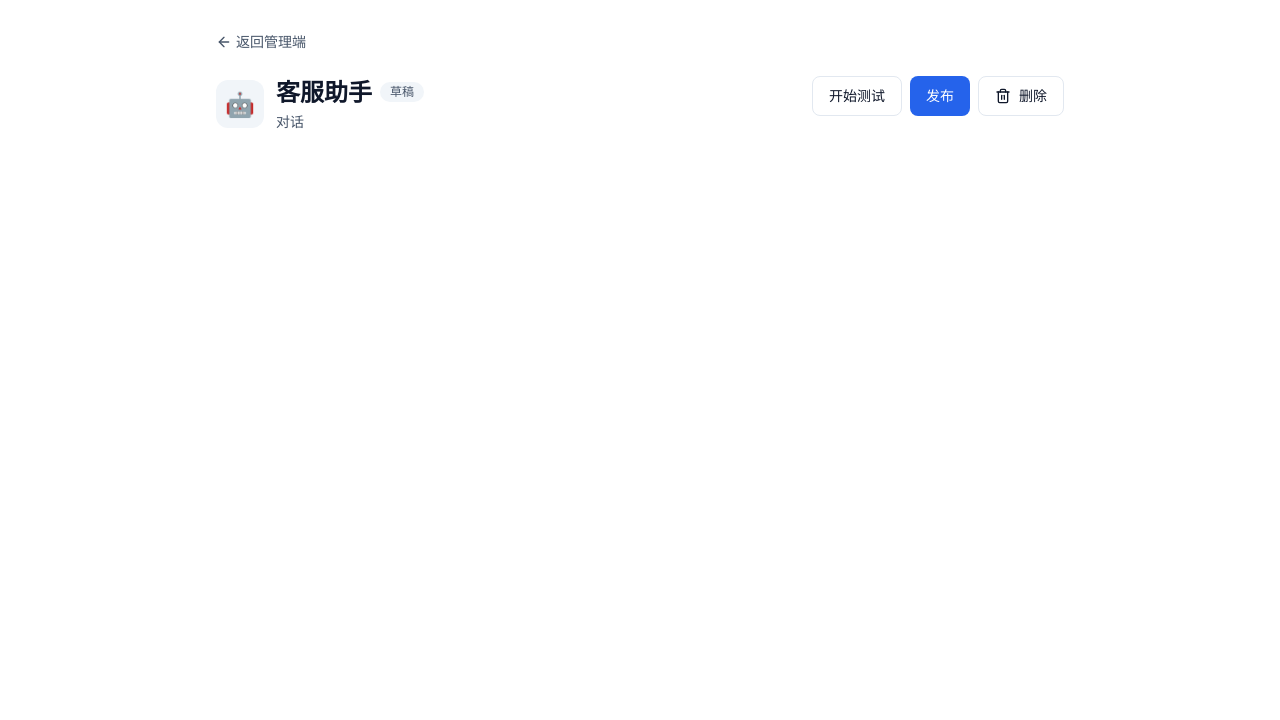
AgentDetailPage publish failures › keeps the version-conflict dialog for an optimistic-lock 409 CONFLICT
Step 1. Click the button "发布" → (940, 96), box [910,76,970,116]
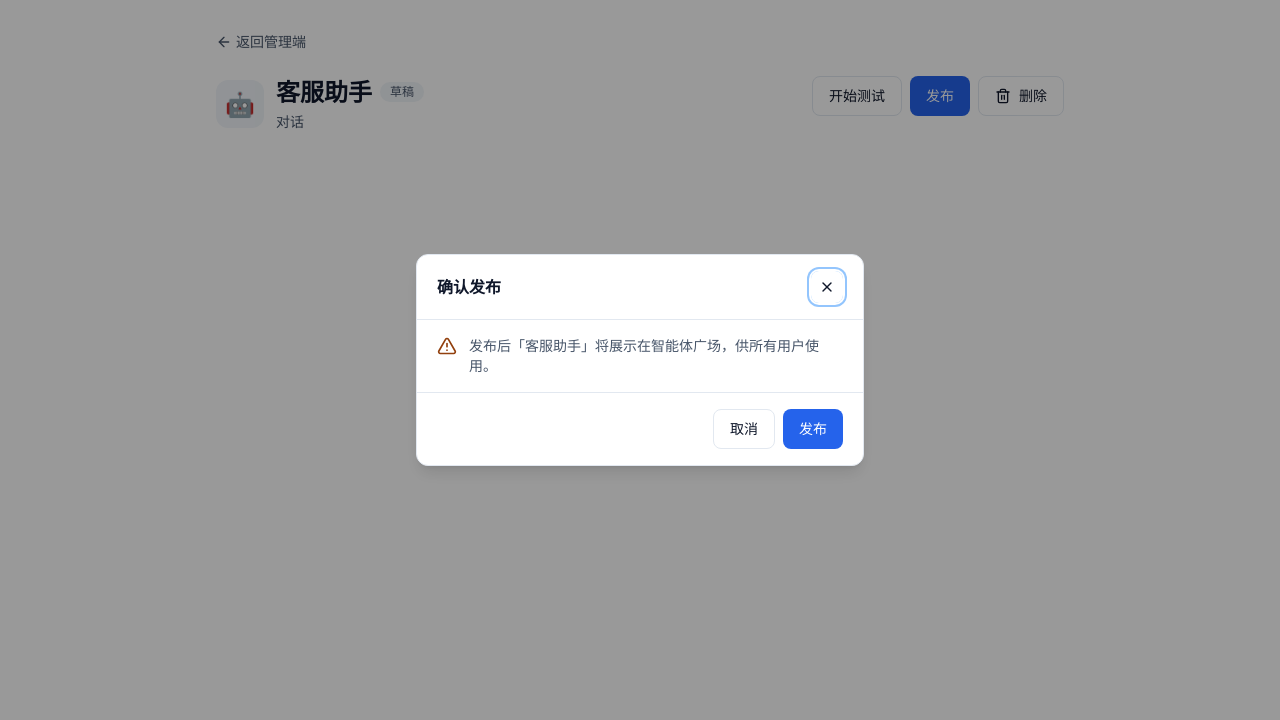
Step 2. Click the button "发布" → (813, 429), box [783,409,843,449]
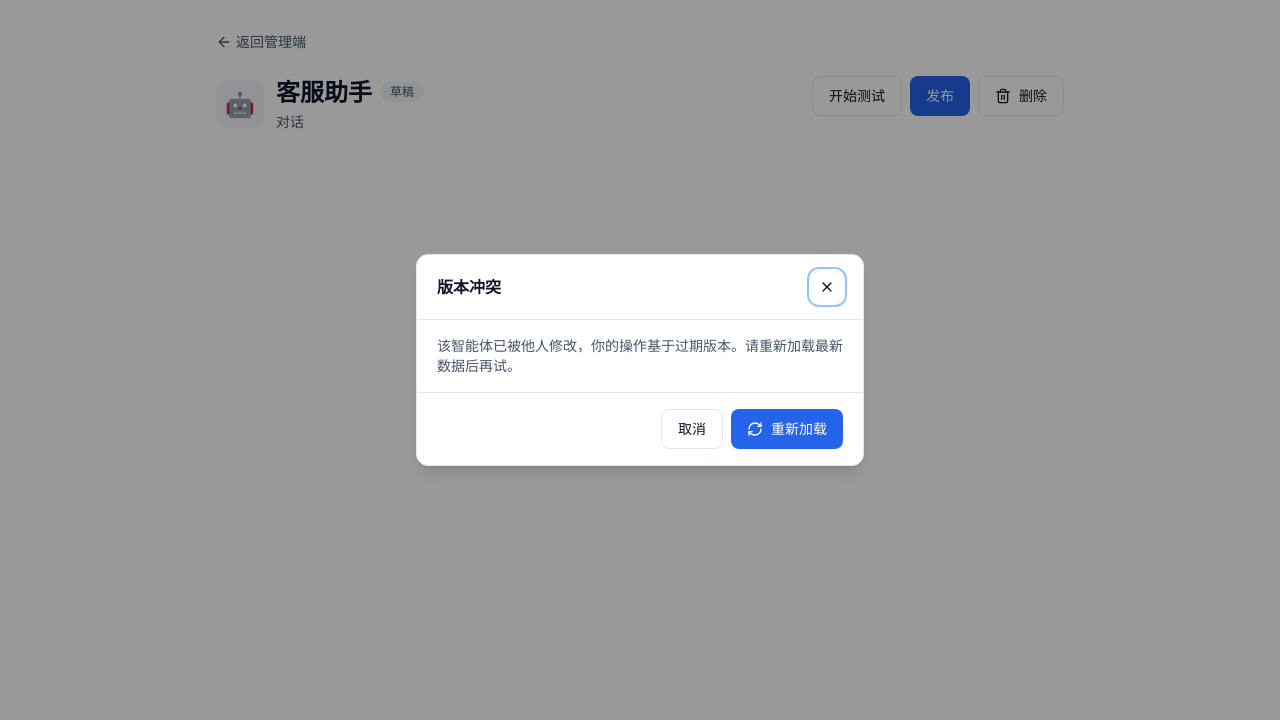
Expected: the heading "版本冲突" is shown, [437,275,501,299]
